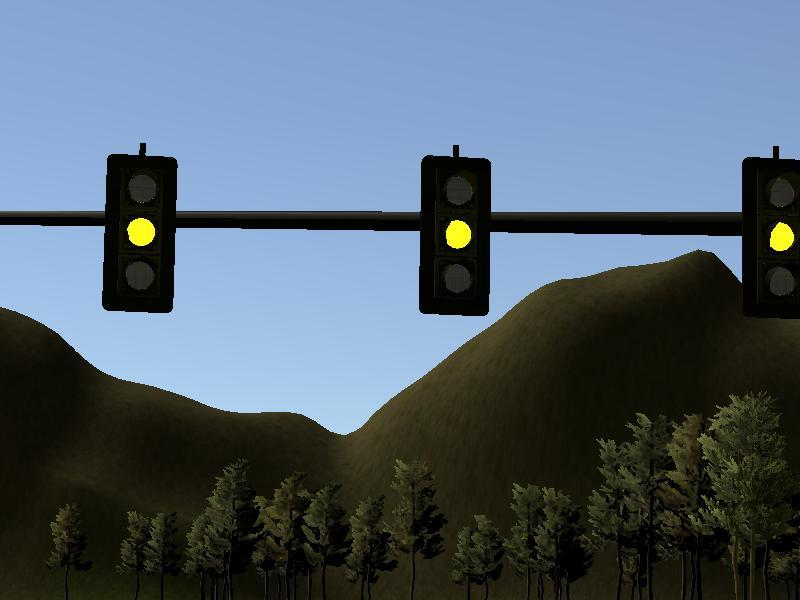Yellow: (102, 153, 178, 314), (418, 154, 492, 317), (739, 157, 800, 317)
